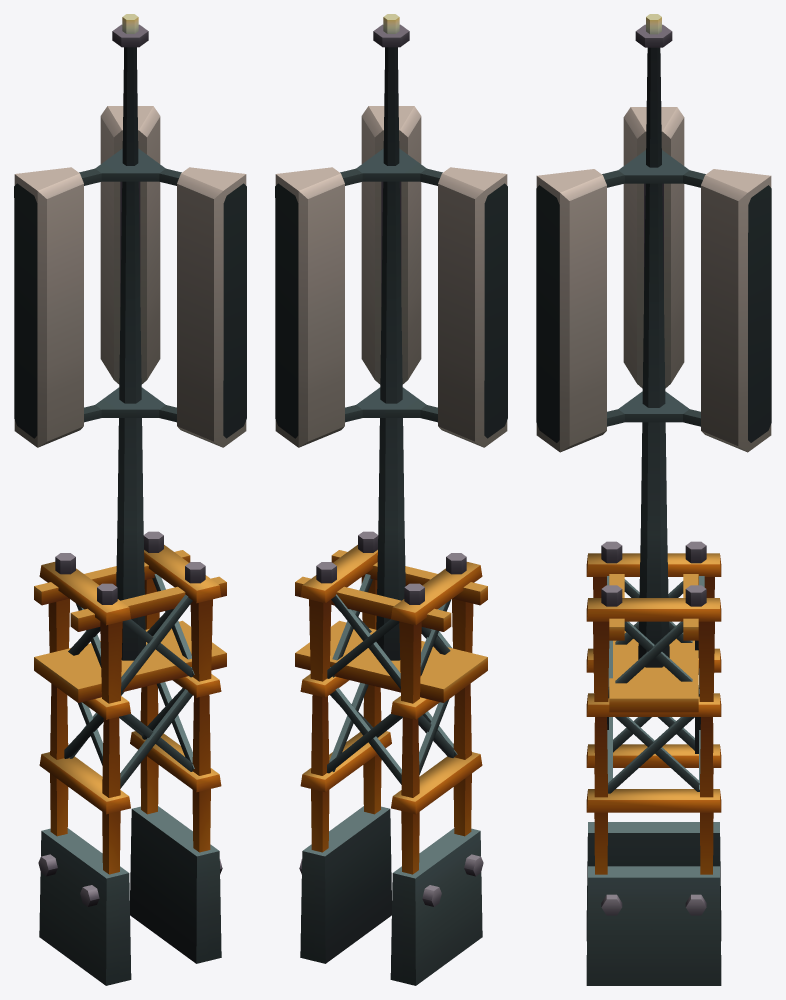
The model's file is Antenna_2B.fbx.
The picture shows the model from 3 angles, left to right: view 1: azimuth 30°, elevation 25°; view 2: azimuth 150°, elevation 25°; view 3: azimuth 270°, elevation 25°; orthographic projection.
Parts seen in each view (by area): view 1: Antenna_2B; view 2: Antenna_2B; view 3: Antenna_2B.
Part boxes in pixels (bbox=[...]): Antenna_2B: bbox=[14, 14, 246, 985]; Antenna_2B: bbox=[275, 14, 507, 985]; Antenna_2B: bbox=[536, 14, 771, 985].
Bounding box in the file's own units: 397 × 1969 × 446.
